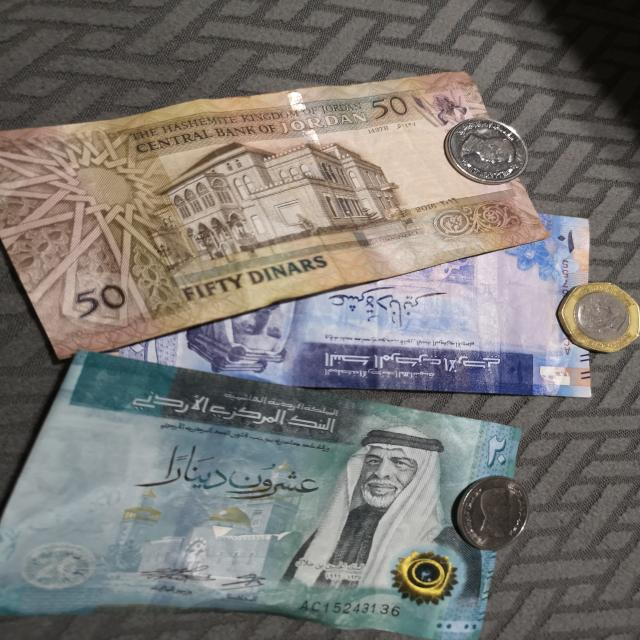10-coins: (443, 119, 529, 184)
10-dinar: (84, 208, 589, 396)
20-dinar: (0, 346, 522, 640)
5-coins: (452, 475, 530, 551)
50-coins: (557, 282, 640, 354)
50-dinar: (0, 69, 549, 359)
